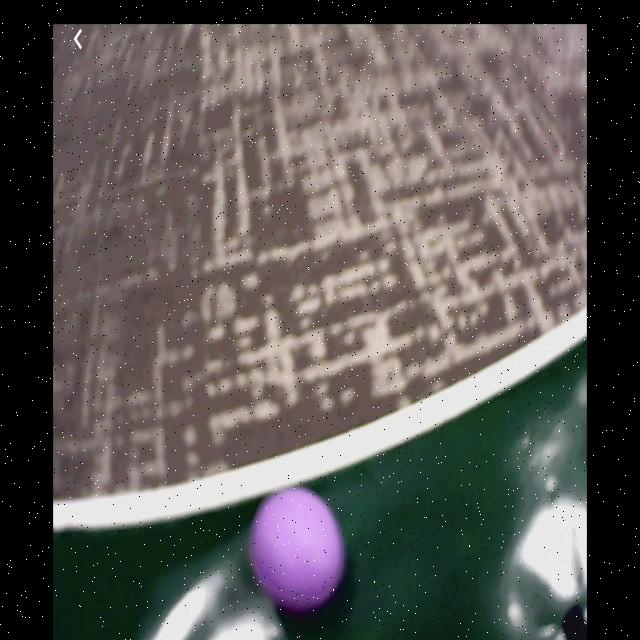ball: (253, 491, 345, 611)
